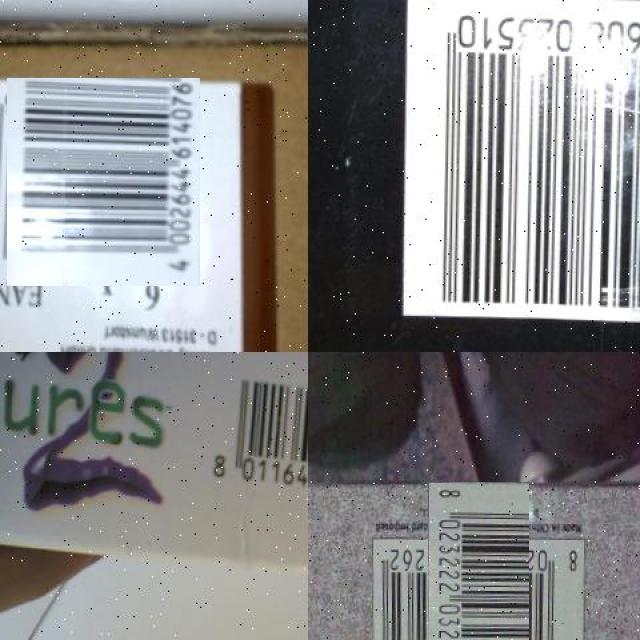Barcode: (401, 0, 640, 331), (3, 82, 205, 282), (400, 511, 558, 640), (191, 357, 308, 528)
